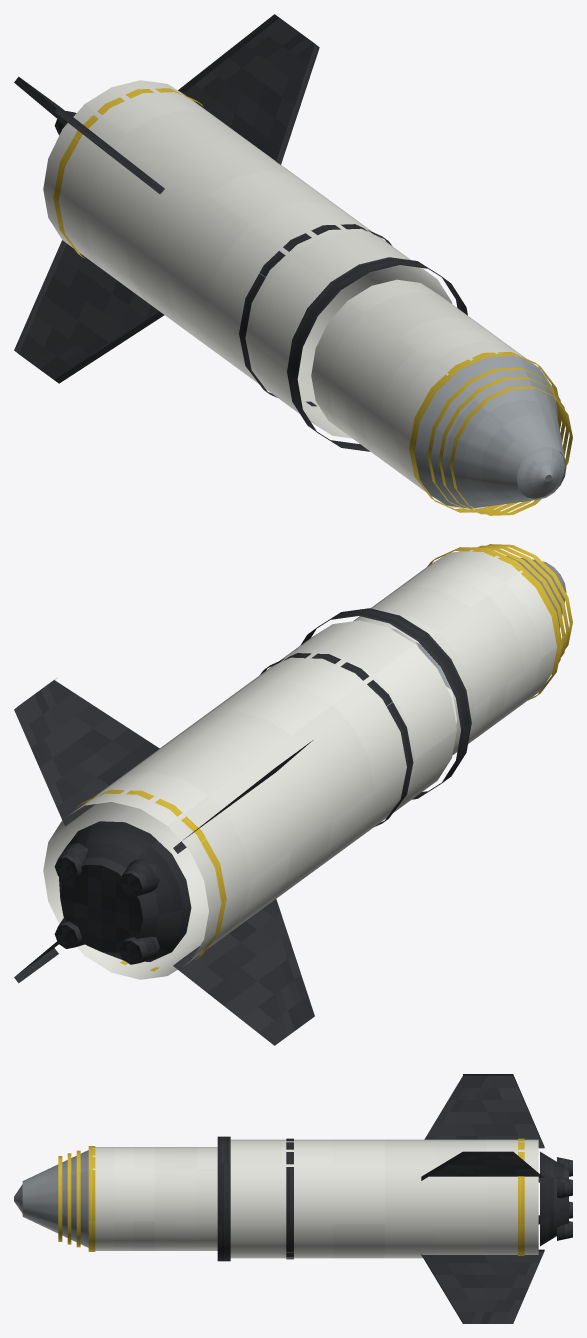
File: missile_operational_mirv.glb
3 views of the same model, one above another, from view 1: azimuth 30°, elevation 25°; view 2: azimuth 150°, elevation 25°; view 3: azimuth 270°, elevation 25° (orthographic). The views are drawn at different scales.
Parts seen in each view (by area): view 1: body; view 2: body; view 3: body.
Boxes of the visible parts, left/top/right/bottom form: body: left=14, top=14, right=572, bottom=515; body: left=14, top=544, right=572, bottom=1045; body: left=14, top=1074, right=572, bottom=1323.
Size of the model in its own units: 1.44 by 1.44 by 4.23.
1 material, 1 textured.
